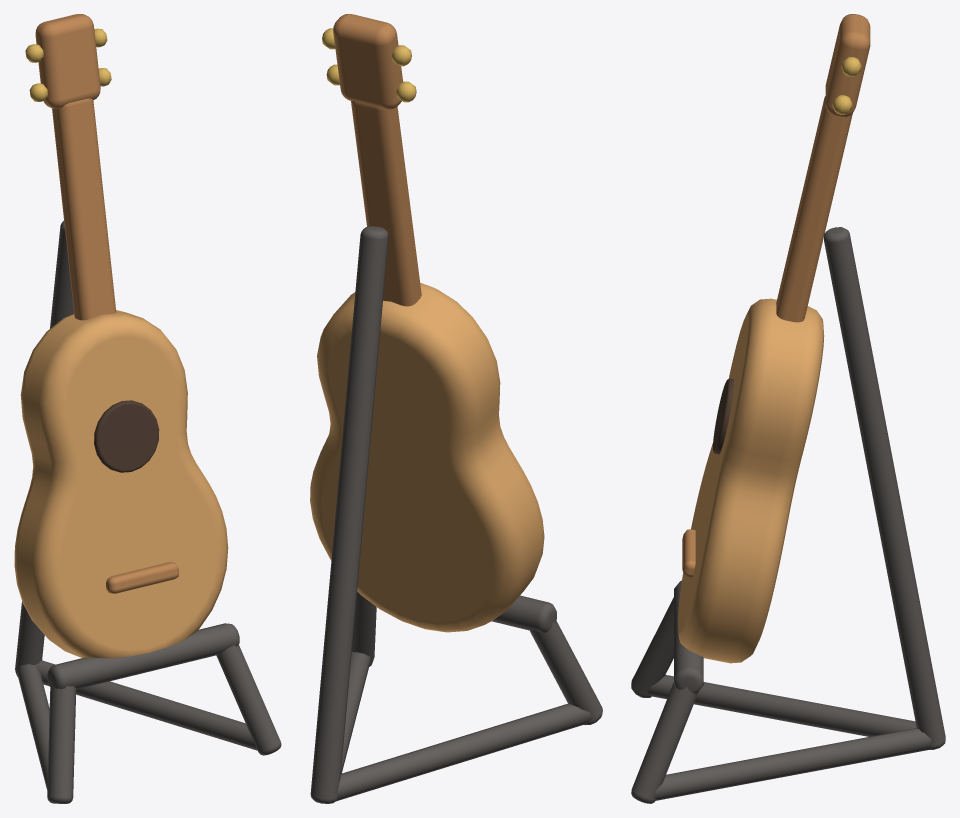
The model's file is acoustic_guitar_stand.glb.
3 renders of one model, left to right at view 1: azimuth 30°, elevation 25°; view 2: azimuth 150°, elevation 25°; view 3: azimuth 270°, elevation 25°, orthographic. The views are drawn at different scales.
Visible parts, largest first — view 1: acoustic_guitar_stand_mesh; view 2: acoustic_guitar_stand_mesh; view 3: acoustic_guitar_stand_mesh.
Part boxes in pixels (x1,y1,x2,y2): acoustic_guitar_stand_mesh: (14,14,281,803); acoustic_guitar_stand_mesh: (310,14,602,803); acoustic_guitar_stand_mesh: (631,14,945,803).
Bounding box in the file's own units: 0.3271 × 0.9316 × 0.3654.
